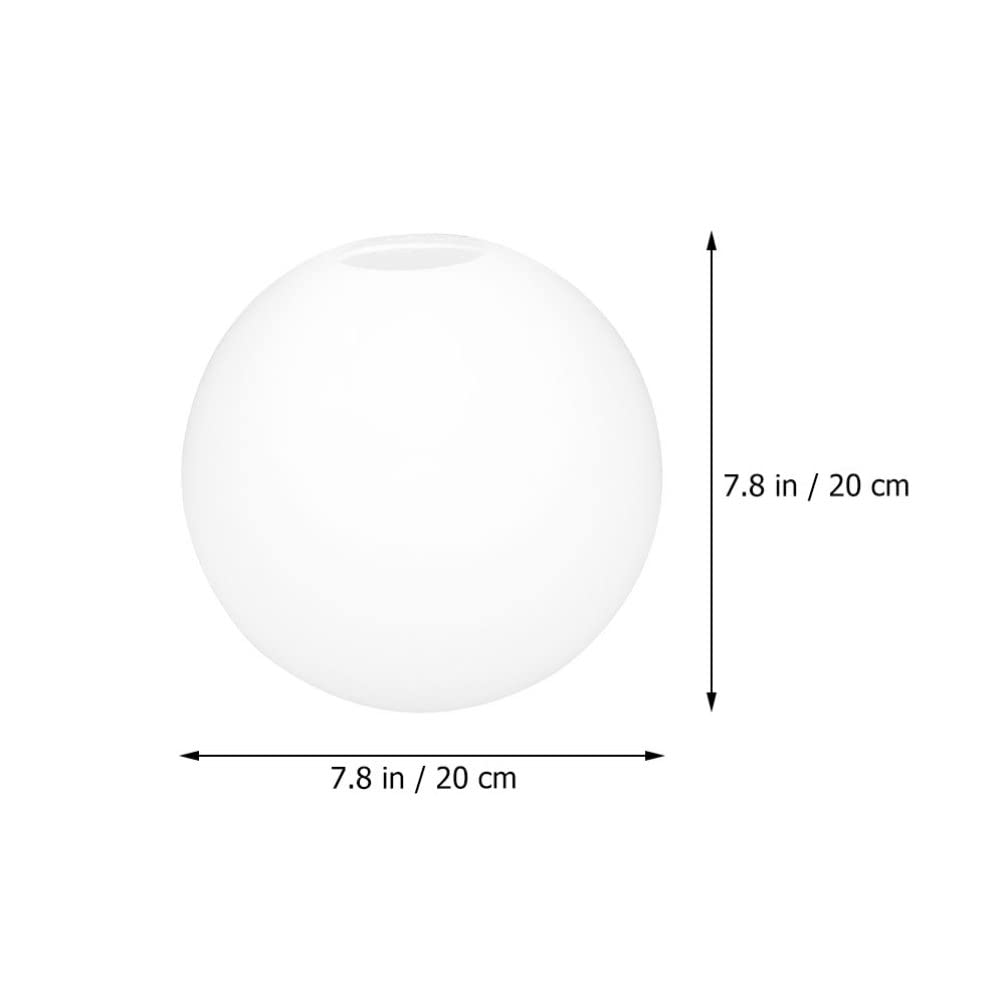/: (808, 473, 818, 501), (420, 766, 425, 794)
20: (437, 766, 468, 789)
20cm: (830, 473, 908, 497)
7.8: (724, 474, 764, 497), (331, 766, 371, 789)
cm: (479, 772, 515, 789)
in: (776, 474, 796, 496), (383, 767, 403, 789)
